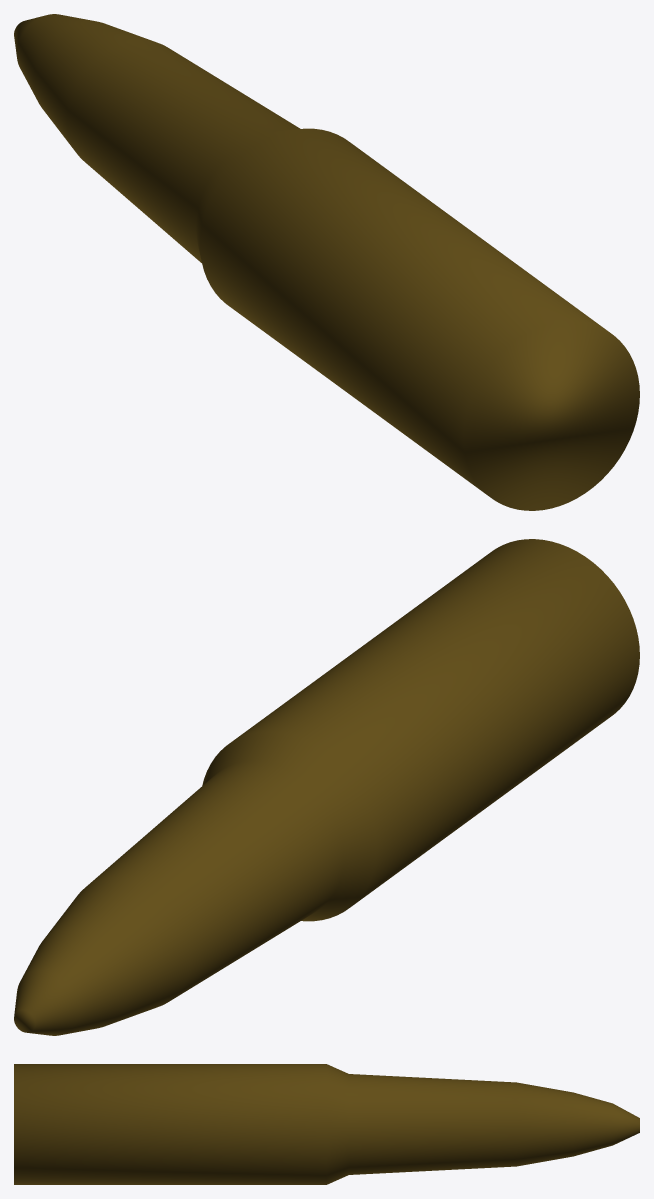
Rendered from bullet.fbx.
The picture shows the model from 3 angles, top to bottom: view 1: azimuth 30°, elevation 25°; view 2: azimuth 150°, elevation 25°; view 3: azimuth 270°, elevation 25°; orthographic projection. The views are drawn at different scales.
Visible parts, largest first — view 1: Cylinder.006; view 2: Cylinder.006; view 3: Cylinder.006.
Part boxes in pixels (bbox=[...]): Cylinder.006: bbox=[14, 14, 639, 510]; Cylinder.006: bbox=[14, 539, 639, 1035]; Cylinder.006: bbox=[14, 1064, 639, 1184].
Size of the model in its own units: 12 by 12 by 62.04.
